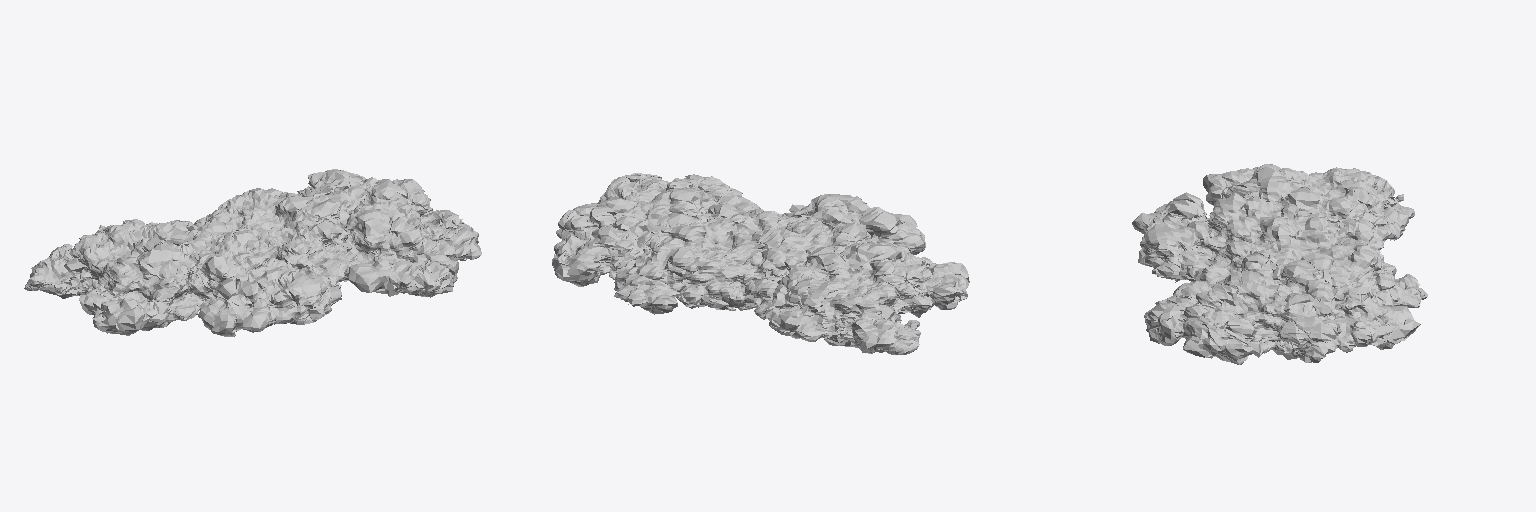
Rendered from Cloud.obj.
3 views of the same model, side by side, from view 1: azimuth 30°, elevation 25°; view 2: azimuth 150°, elevation 25°; view 3: azimuth 270°, elevation 25° (orthographic).
Parts seen in each view (by area): view 1: Cube; view 2: Cube; view 3: Cube.
Part boxes in pixels (bbox=[...]): Cube: bbox=[24, 169, 481, 336]; Cube: bbox=[552, 173, 969, 354]; Cube: bbox=[1132, 164, 1427, 364].
Bounding box in the file's own units: 11.59 × 2 × 7.82.